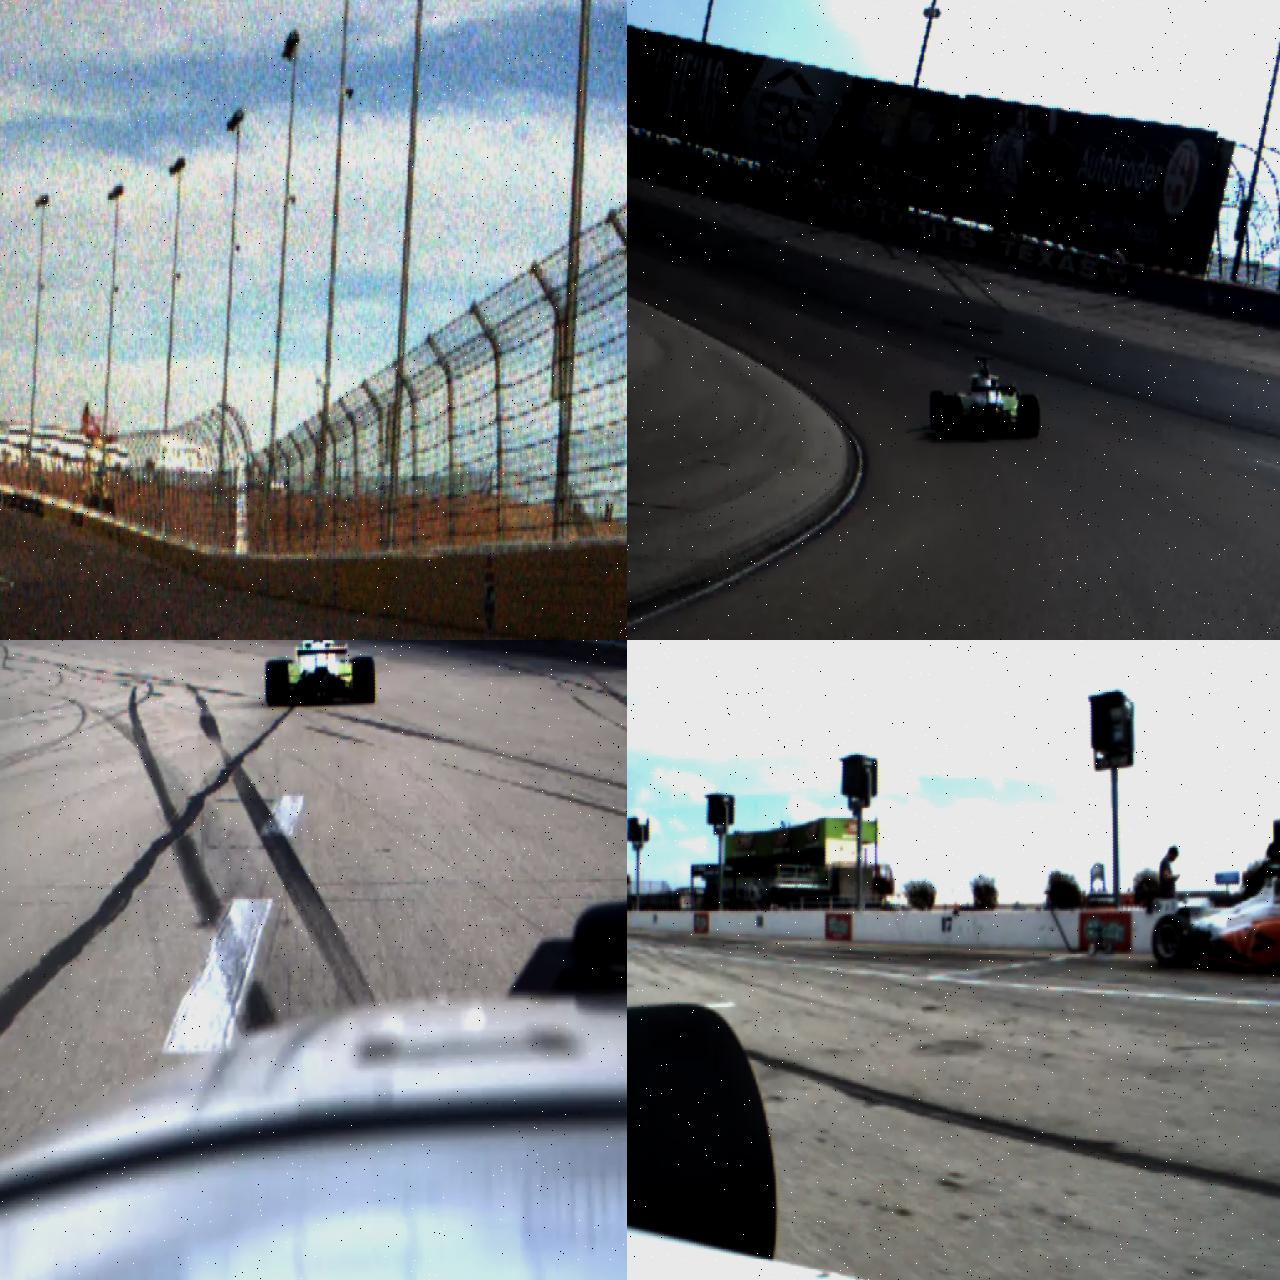AV: (1150, 864, 1280, 985), (930, 355, 1041, 442), (265, 640, 375, 708)
Wheel: (627, 1003, 775, 1259), (1152, 914, 1192, 969), (352, 656, 375, 704), (266, 660, 290, 707), (939, 396, 964, 441), (1020, 394, 1040, 438), (931, 390, 944, 433)
